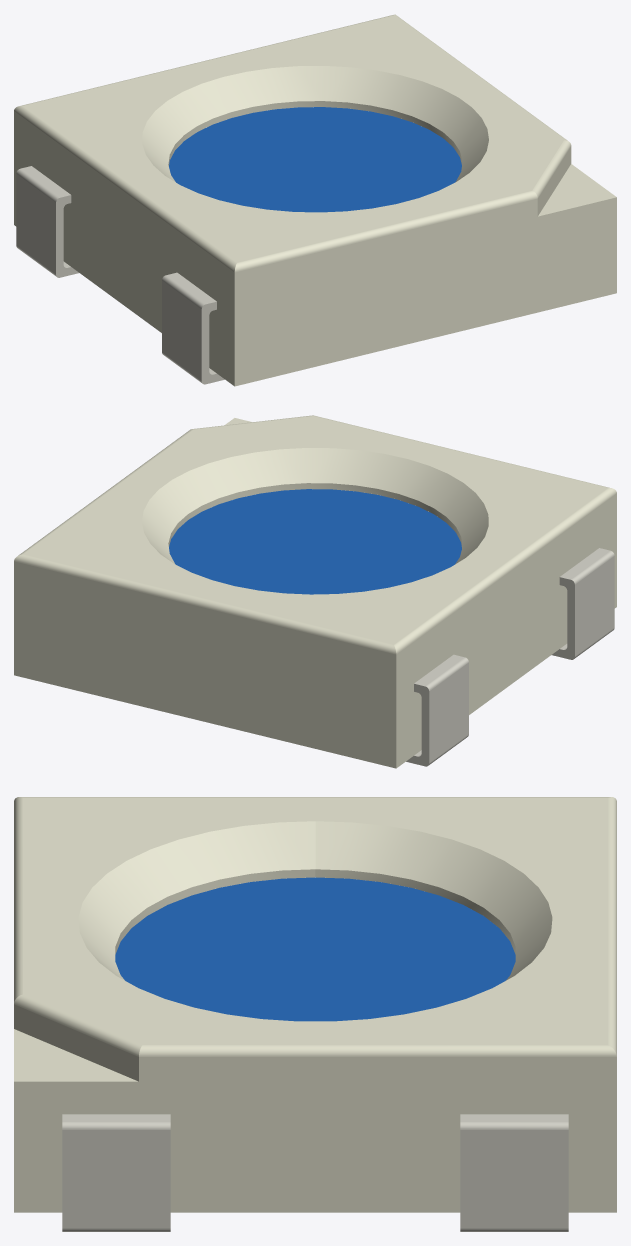
File: kc-led_ws2812b_plcc4_5.0x5.0mm_p3.2mm.glb
3 renders of one model, top to bottom at view 1: azimuth 30°, elevation 25°; view 2: azimuth 150°, elevation 25°; view 3: azimuth 270°, elevation 25°, orthographic. The views are drawn at different scales.
Parts seen in each view (by area): view 1: 0.75_0.75_0.6666666666666666_0, 0_0.16666666666666666_0.5_0, 0.6666666666666666_0.6666666666666666_0.5833333333333334_0.8; view 2: 0.75_0.75_0.6666666666666666_0, 0_0.16666666666666666_0.5_0, 0.6666666666666666_0.6666666666666666_0.5833333333333334_0.8; view 3: 0.75_0.75_0.6666666666666666_0, 0_0.16666666666666666_0.5_0, 0.6666666666666666_0.6666666666666666_0.5833333333333334_0.8.
Part boxes in pixels (x1,y1,x2,y2): 0.75_0.75_0.6666666666666666_0: [14, 14, 616, 386]; 0_0.16666666666666666_0.5_0: [169, 107, 461, 212]; 0.6666666666666666_0.6666666666666666_0.5833333333333334_0.8: [16, 166, 224, 384]; 0.75_0.75_0.6666666666666666_0: [14, 415, 616, 768]; 0_0.16666666666666666_0.5_0: [169, 489, 461, 594]; 0.6666666666666666_0.6666666666666666_0.5833333333333334_0.8: [406, 548, 614, 766]; 0.75_0.75_0.6666666666666666_0: [14, 797, 616, 1212]; 0_0.16666666666666666_0.5_0: [115, 877, 515, 1021]; 0.6666666666666666_0.6666666666666666_0.5833333333333334_0.8: [62, 1114, 568, 1231].
Size of the model in its own units: 0.54 by 0.16 by 0.5.
